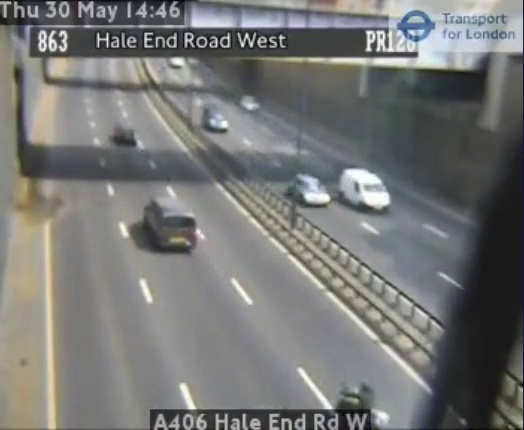van: (146, 197, 196, 249)
